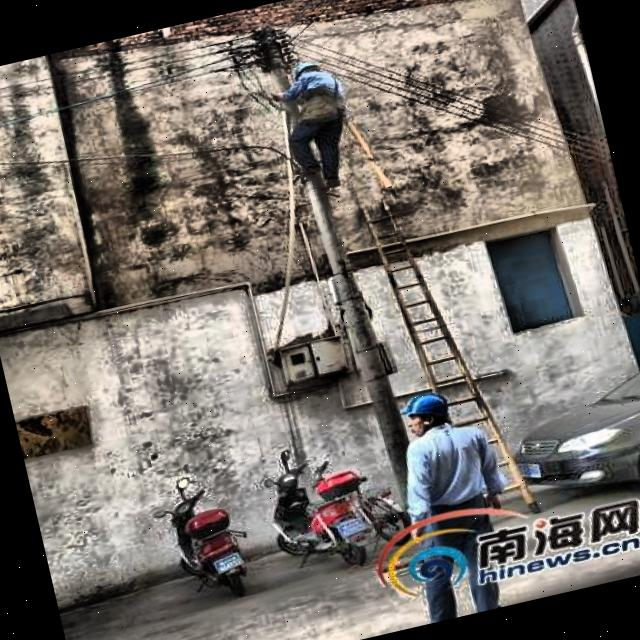helmet: (399, 382, 458, 438), (285, 58, 328, 85)
